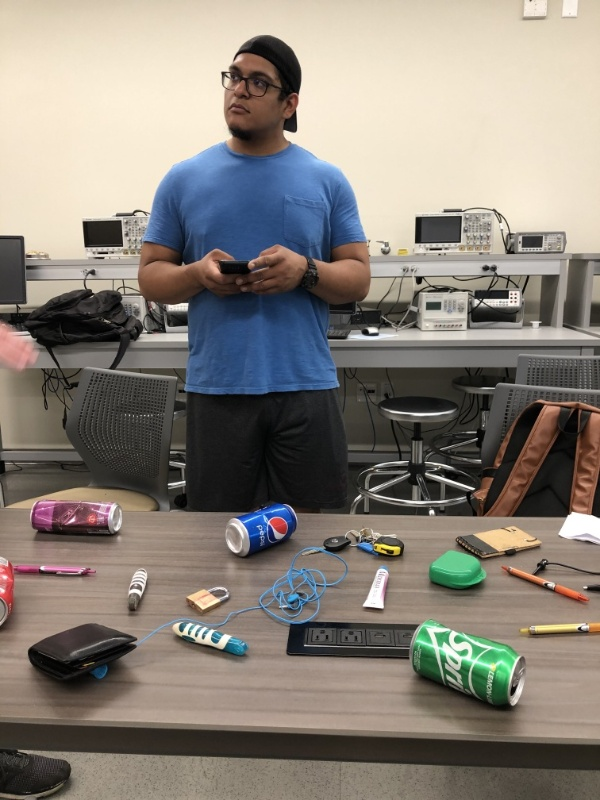can: (403, 615, 537, 713), (23, 491, 127, 543), (221, 498, 302, 561), (1, 544, 17, 631)
